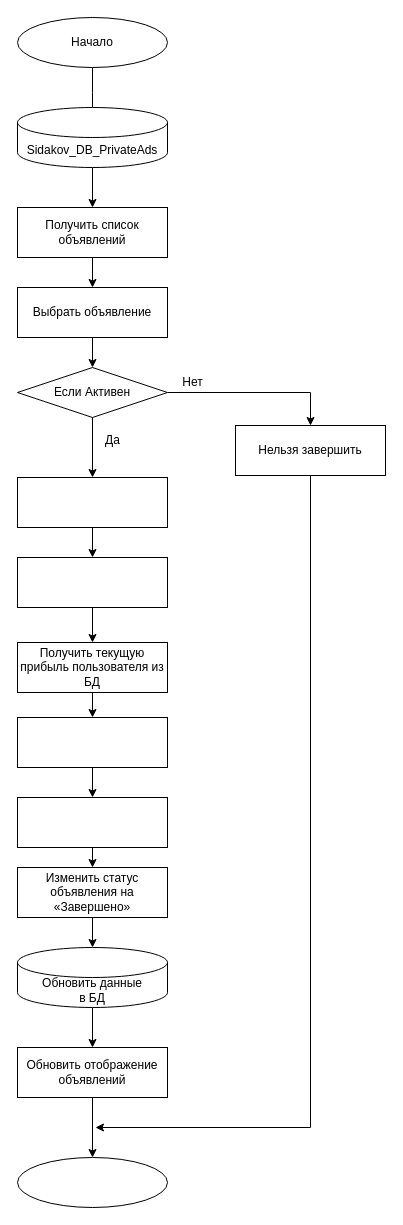
This 403x1225 diagram has some shape labels left out. The box of each missing label's shape, as (x1, y1, x2, y2) in pixels:
Вычислить новую прибыль (Пр = Пр + Цена Об): (16, 716, 168, 768)
Конец: (16, 1156, 168, 1208)
Получить ID владельца объявления: (16, 556, 168, 608)
Получить цену объявления: (16, 476, 168, 528)
Сохранить новую прибыль пользователя: (16, 796, 168, 848)
